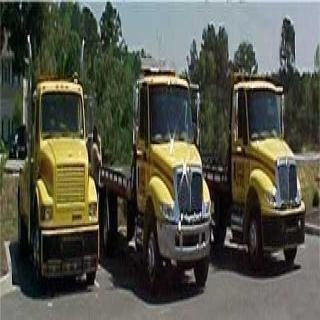Towing_truck: (105, 62, 214, 283), (16, 63, 100, 294), (215, 66, 307, 270)
